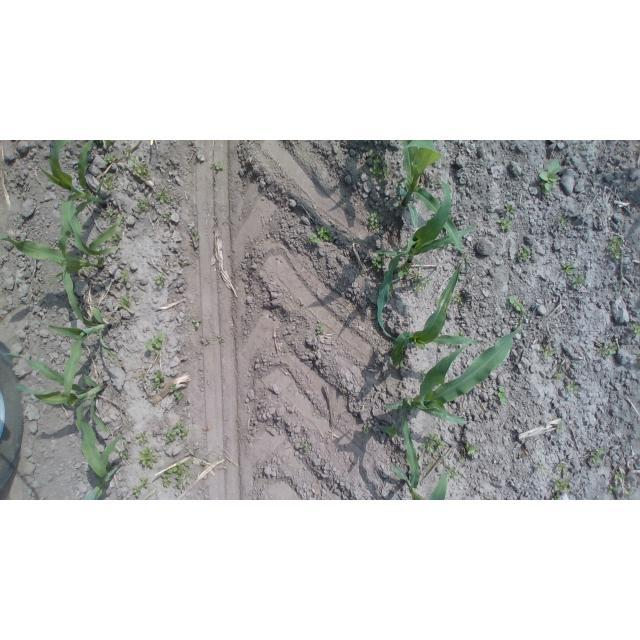Maize: (384, 323, 526, 490), (375, 179, 483, 340), (2, 350, 111, 480), (385, 253, 483, 375), (40, 265, 120, 404), (3, 217, 105, 326), (38, 140, 121, 258), (391, 141, 467, 259), (79, 433, 126, 500), (388, 460, 452, 500)
Weeds: (538, 160, 563, 193), (164, 421, 190, 445), (173, 458, 193, 488), (368, 152, 387, 182), (147, 331, 168, 357), (421, 433, 448, 453), (156, 188, 184, 207), (128, 157, 151, 180), (610, 470, 631, 494), (551, 475, 571, 500), (140, 447, 161, 469), (607, 235, 623, 262), (130, 475, 150, 495), (413, 271, 432, 292), (509, 296, 528, 316), (598, 341, 619, 358), (151, 368, 166, 391), (368, 212, 385, 231), (588, 446, 605, 465), (317, 224, 334, 242), (462, 441, 478, 459), (540, 343, 556, 360), (384, 423, 400, 440), (563, 262, 581, 277), (516, 245, 532, 261), (161, 467, 173, 488), (443, 465, 461, 479), (153, 273, 168, 289), (101, 173, 115, 190), (137, 198, 154, 212), (207, 333, 226, 345), (503, 200, 518, 215), (497, 386, 508, 406), (570, 275, 585, 289), (497, 217, 512, 231), (135, 431, 150, 445), (398, 263, 411, 279), (119, 269, 132, 285), (118, 293, 131, 309), (189, 226, 201, 243), (565, 379, 579, 393), (370, 255, 384, 269), (170, 385, 184, 399), (555, 461, 569, 475), (104, 153, 119, 166), (210, 162, 224, 175), (312, 406, 324, 421), (300, 441, 313, 454), (121, 146, 134, 159), (101, 207, 115, 218), (533, 459, 544, 473), (308, 234, 320, 246), (455, 293, 466, 306), (315, 322, 325, 336), (192, 318, 204, 329), (633, 321, 640, 339), (163, 211, 172, 225), (553, 368, 563, 380), (362, 424, 370, 436), (560, 217, 569, 227), (556, 423, 565, 433), (112, 230, 120, 241), (281, 347, 289, 353)
